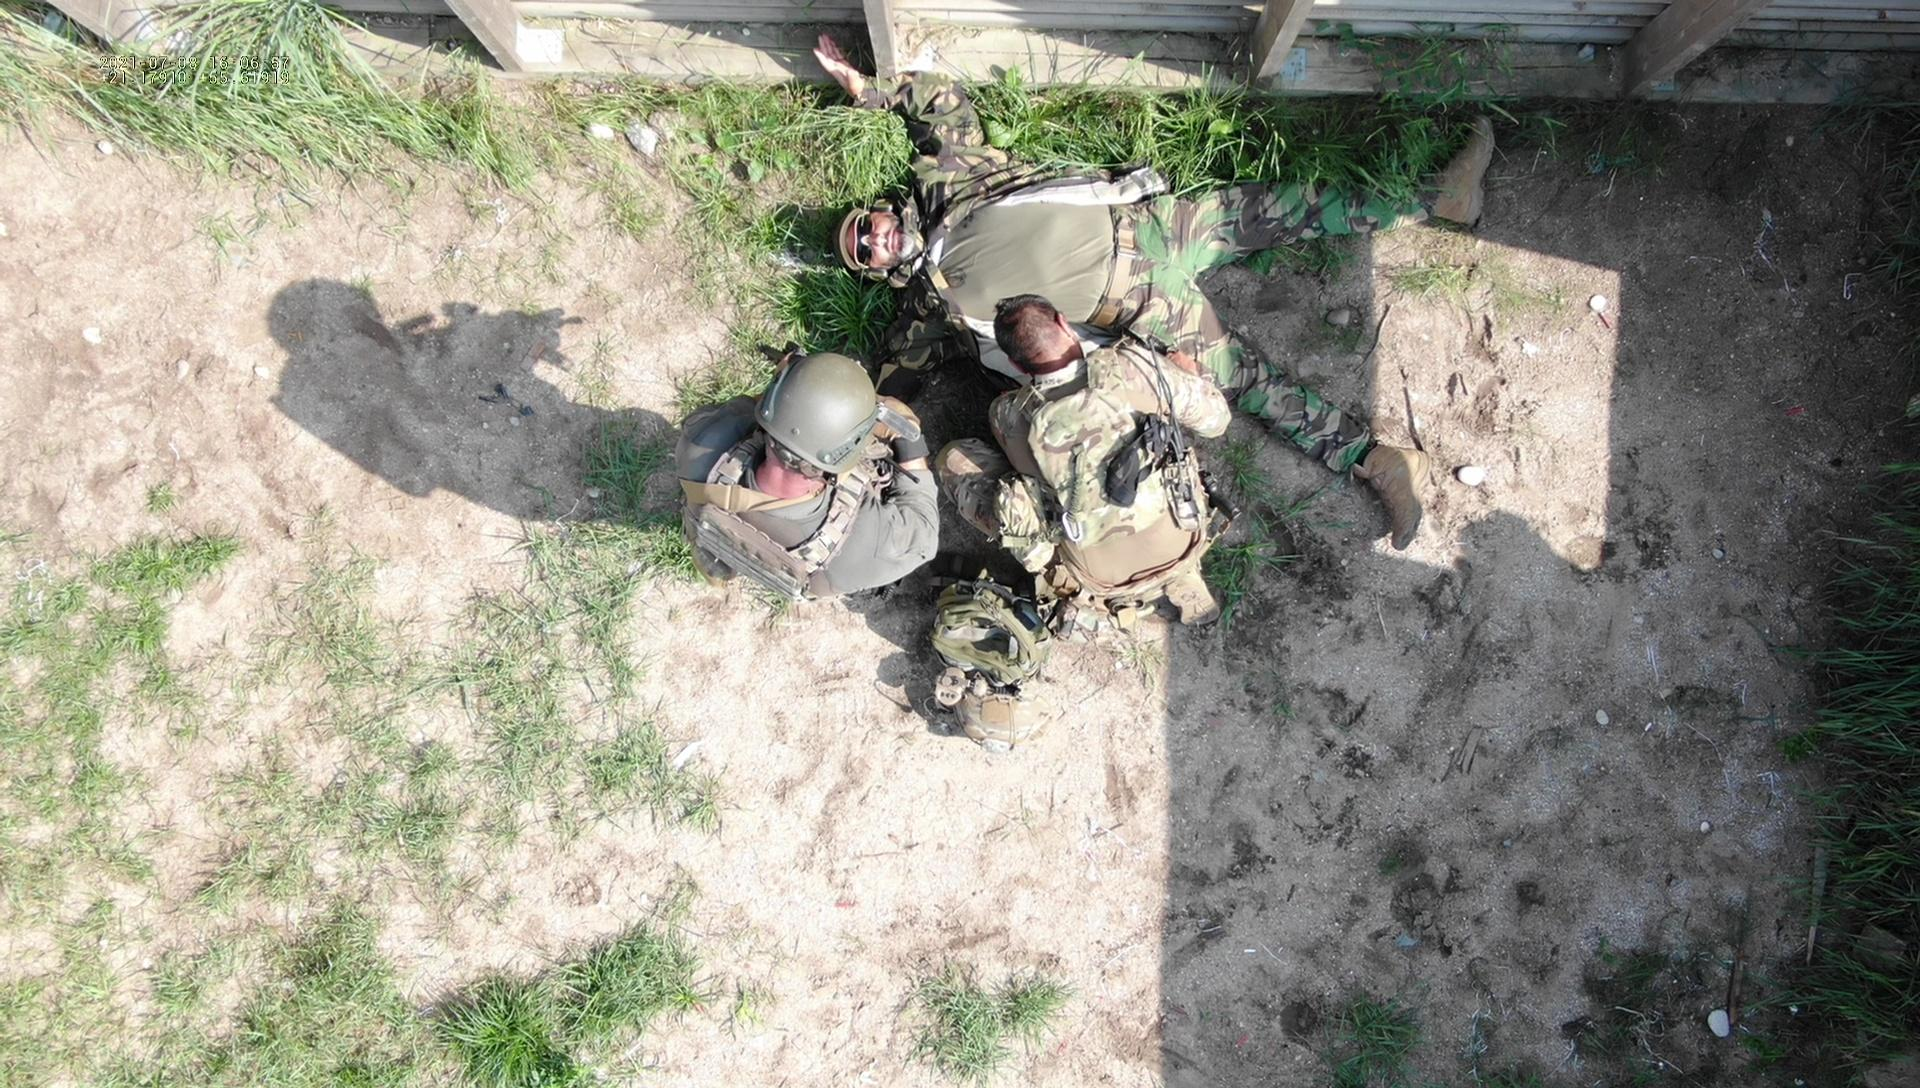Soldier: (815, 32, 1490, 340), (951, 273, 1274, 702), (687, 313, 963, 699)
